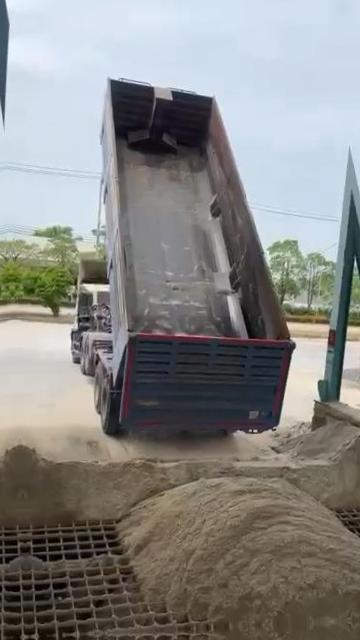sand: (22, 424, 360, 625), (27, 554, 128, 571)
